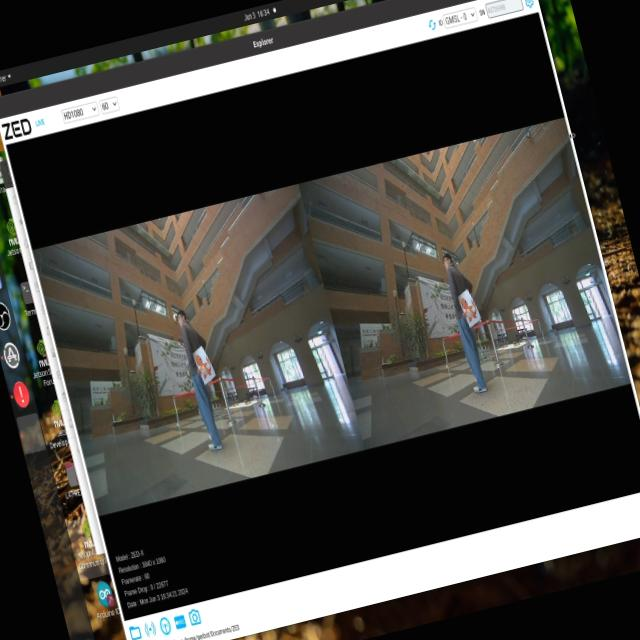red: (458, 288, 486, 332), (190, 342, 217, 387)
